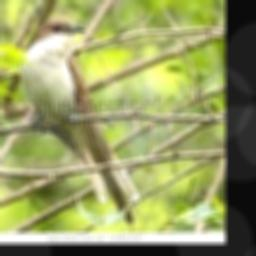Cuckoo: (21, 16, 141, 223)
